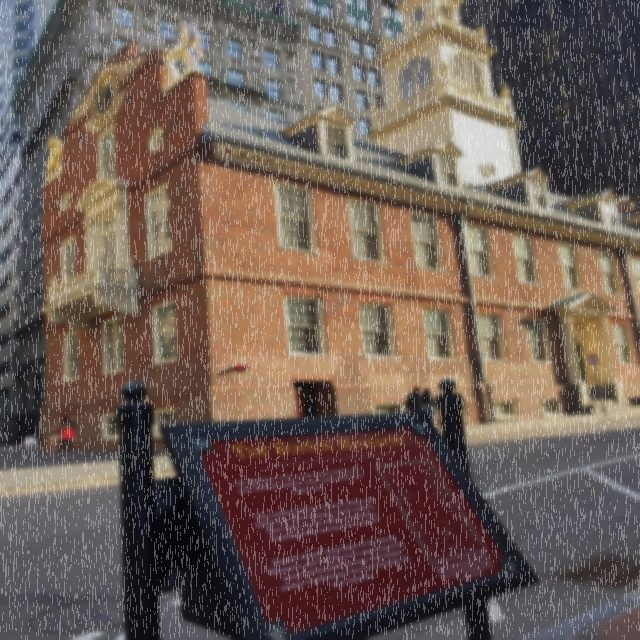pessoa: (47, 416, 76, 452), (38, 416, 64, 453), (420, 388, 438, 424), (404, 386, 424, 412), (34, 424, 48, 442)
